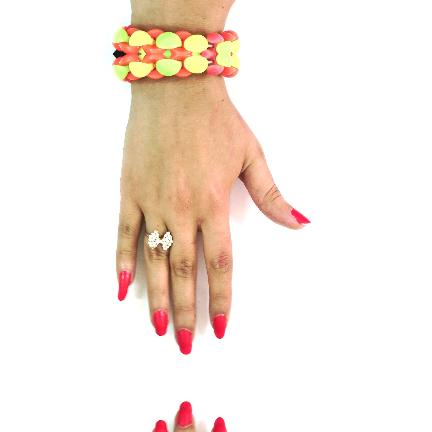Nail: (118, 271, 131, 301), (153, 310, 168, 336), (177, 329, 192, 355), (177, 401, 192, 427), (291, 207, 312, 224), (213, 314, 227, 339), (213, 417, 227, 432), (154, 420, 168, 432)
